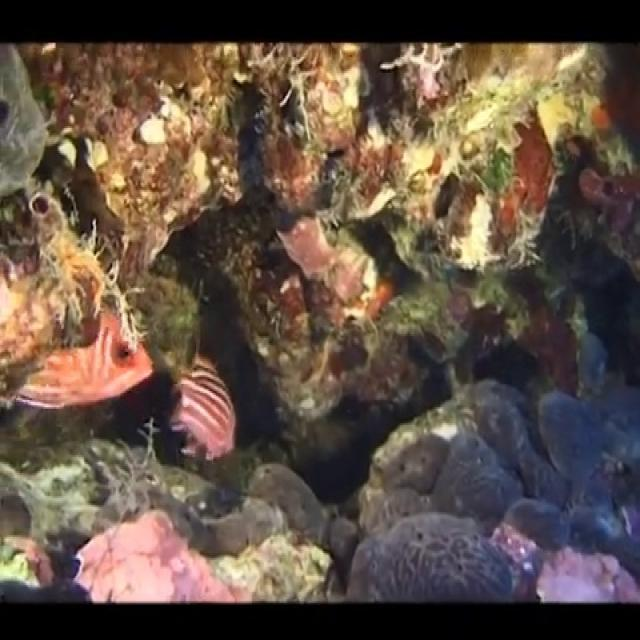Asker Baligi: (162, 358, 243, 461)
